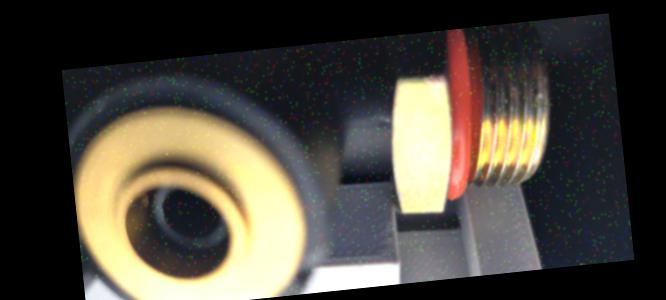bump: (288, 261, 319, 290)
joint line: (343, 120, 375, 132)
white mark: (378, 116, 391, 127)
